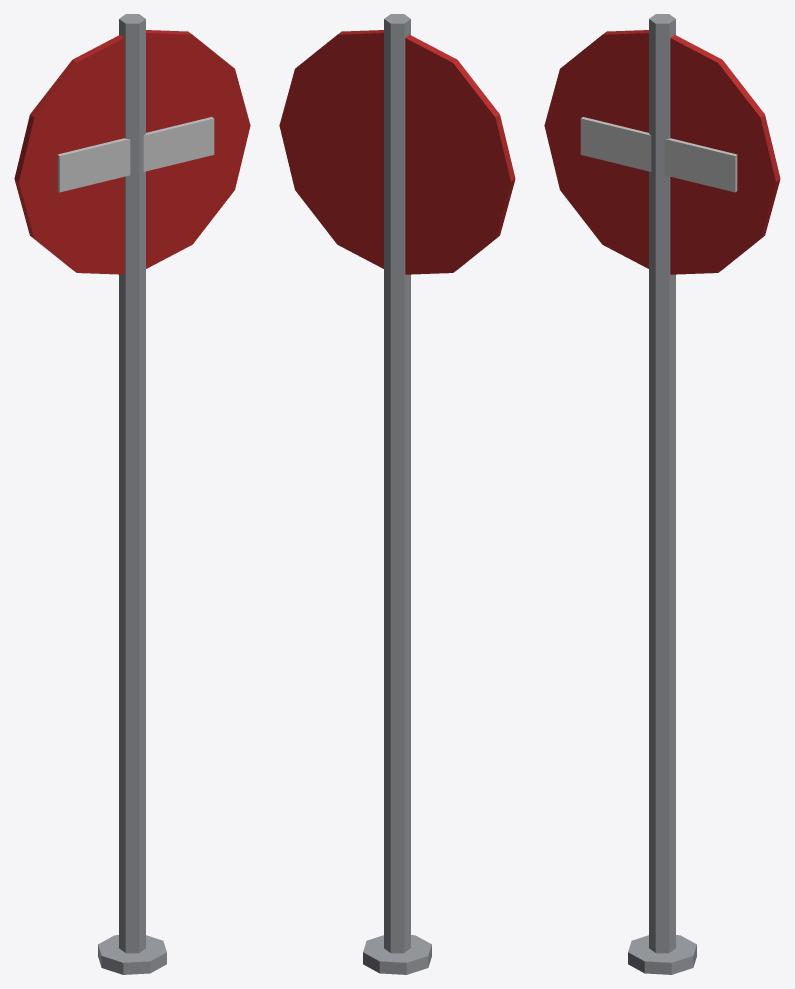
File: objet_panneau_sens_interdit.glb
3 views of the same model, side by side, from view 1: azimuth 30°, elevation 25°; view 2: azimuth 150°, elevation 25°; view 3: azimuth 330°, elevation 25° (orthographic).
Visible parts, largest first — view 1: objet_panneau_sens_interdit; view 2: objet_panneau_sens_interdit; view 3: objet_panneau_sens_interdit.
Part boxes in pixels (<box>): objet_panneau_sens_interdit: <box>14,14,250,974</box>; objet_panneau_sens_interdit: <box>279,14,515,974</box>; objet_panneau_sens_interdit: <box>544,14,780,974</box>.
Bounding box in the file's own units: 0.6 × 2.33 × 0.16.
